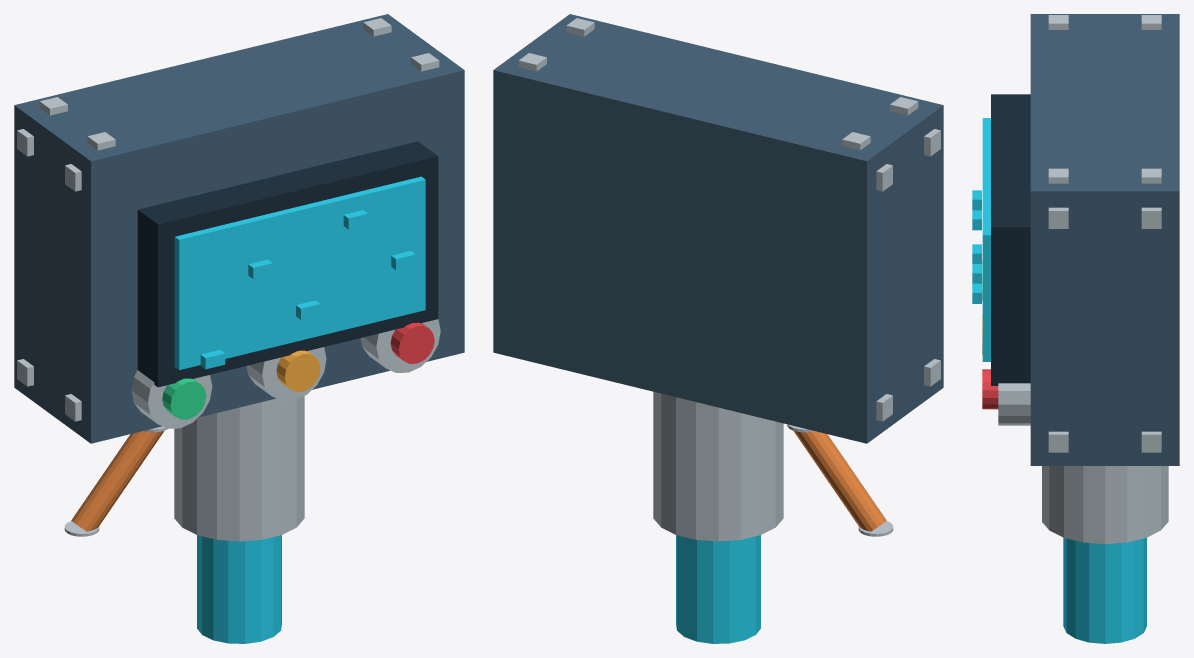
File: 23_L77_EddyCurrentCopperThicknessGauge.fbx
3 renders of one model, left to right at view 1: azimuth 30°, elevation 25°; view 2: azimuth 150°, elevation 25°; view 3: azimuth 270°, elevation 25°, orthographic. The views are drawn at different scales.
Visible parts, largest first — view 1: EddyCurrentCopperThicknessGauge_Part_0000, EddyCurrentCopperThicknessGauge_Part_0010, EddyCurrentCopperThicknessGauge_Part_0009, EddyCurrentCopperThicknessGauge_Part_0026, EddyCurrentCopperThicknessGauge_Part_0027, EddyCurrentCopperThicknessGauge_Part_0023, EddyCurrentCopperThicknessGauge_Part_0016, EddyCurrentCopperThicknessGauge_Part_0018, EddyCurrentCopperThicknessGauge_Part_0020, EddyCurrentCopperThicknessGauge_Part_0017, EddyCurrentCopperThicknessGauge_Part_0019, EddyCurrentCopperThicknessGauge_Part_0021; view 2: EddyCurrentCopperThicknessGauge_Part_0000, EddyCurrentCopperThicknessGauge_Part_0026, EddyCurrentCopperThicknessGauge_Part_0027, EddyCurrentCopperThicknessGauge_Part_0023; view 3: EddyCurrentCopperThicknessGauge_Part_0000, EddyCurrentCopperThicknessGauge_Part_0009, EddyCurrentCopperThicknessGauge_Part_0026, EddyCurrentCopperThicknessGauge_Part_0027, EddyCurrentCopperThicknessGauge_Part_0010, EddyCurrentCopperThicknessGauge_Part_0020, EddyCurrentCopperThicknessGauge_Part_0021, EddyCurrentCopperThicknessGauge_Part_0001, EddyCurrentCopperThicknessGauge_Part_0002, EddyCurrentCopperThicknessGauge_Part_0003, EddyCurrentCopperThicknessGauge_Part_0004, EddyCurrentCopperThicknessGauge_Part_0007 (+3 smaller).
Boxes of the visible parts, bbox=[...] form: EddyCurrentCopperThicknessGauge_Part_0000: bbox=[14, 14, 464, 443]; EddyCurrentCopperThicknessGauge_Part_0010: bbox=[174, 176, 425, 370]; EddyCurrentCopperThicknessGauge_Part_0009: bbox=[137, 141, 438, 387]; EddyCurrentCopperThicknessGauge_Part_0026: bbox=[174, 396, 304, 541]; EddyCurrentCopperThicknessGauge_Part_0027: bbox=[197, 535, 281, 643]; EddyCurrentCopperThicknessGauge_Part_0023: bbox=[71, 431, 163, 531]; EddyCurrentCopperThicknessGauge_Part_0016: bbox=[131, 370, 212, 428]; EddyCurrentCopperThicknessGauge_Part_0018: bbox=[246, 347, 326, 400]; EddyCurrentCopperThicknessGauge_Part_0020: bbox=[360, 319, 440, 372]; EddyCurrentCopperThicknessGauge_Part_0017: bbox=[162, 378, 206, 419]; EddyCurrentCopperThicknessGauge_Part_0019: bbox=[276, 350, 320, 391]; EddyCurrentCopperThicknessGauge_Part_0021: bbox=[390, 322, 434, 363]; EddyCurrentCopperThicknessGauge_Part_0000: bbox=[493, 14, 943, 443]; EddyCurrentCopperThicknessGauge_Part_0026: bbox=[653, 391, 783, 541]; EddyCurrentCopperThicknessGauge_Part_0027: bbox=[676, 535, 760, 643]; EddyCurrentCopperThicknessGauge_Part_0023: bbox=[794, 431, 886, 531]; EddyCurrentCopperThicknessGauge_Part_0000: bbox=[1030, 14, 1179, 465]; EddyCurrentCopperThicknessGauge_Part_0009: bbox=[991, 94, 1030, 385]; EddyCurrentCopperThicknessGauge_Part_0026: bbox=[1042, 466, 1168, 544]; EddyCurrentCopperThicknessGauge_Part_0027: bbox=[1063, 538, 1146, 643]; EddyCurrentCopperThicknessGauge_Part_0010: bbox=[982, 118, 990, 361]; EddyCurrentCopperThicknessGauge_Part_0020: bbox=[998, 383, 1030, 425]; EddyCurrentCopperThicknessGauge_Part_0021: bbox=[982, 369, 998, 409]; EddyCurrentCopperThicknessGauge_Part_0001: bbox=[1141, 431, 1161, 452]; EddyCurrentCopperThicknessGauge_Part_0002: bbox=[1048, 431, 1068, 452]; EddyCurrentCopperThicknessGauge_Part_0003: bbox=[1141, 207, 1161, 228]; EddyCurrentCopperThicknessGauge_Part_0004: bbox=[1048, 207, 1068, 228]; EddyCurrentCopperThicknessGauge_Part_0007: bbox=[1141, 168, 1161, 183].
Bounding box in the file's own units: 54 × 72.75 × 25.82.
